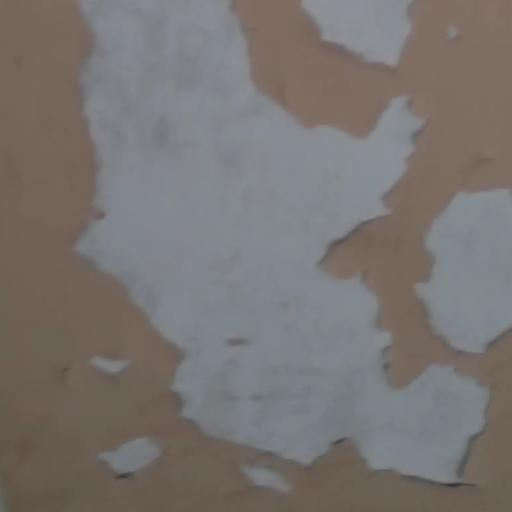peeling: (38, 0, 512, 501)
